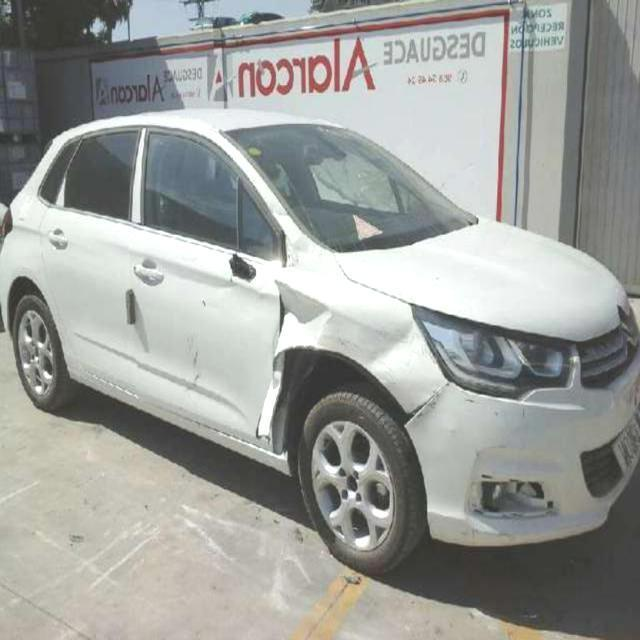minor: (459, 394, 498, 434)
moderate: (255, 239, 448, 441), (143, 340, 235, 402)
